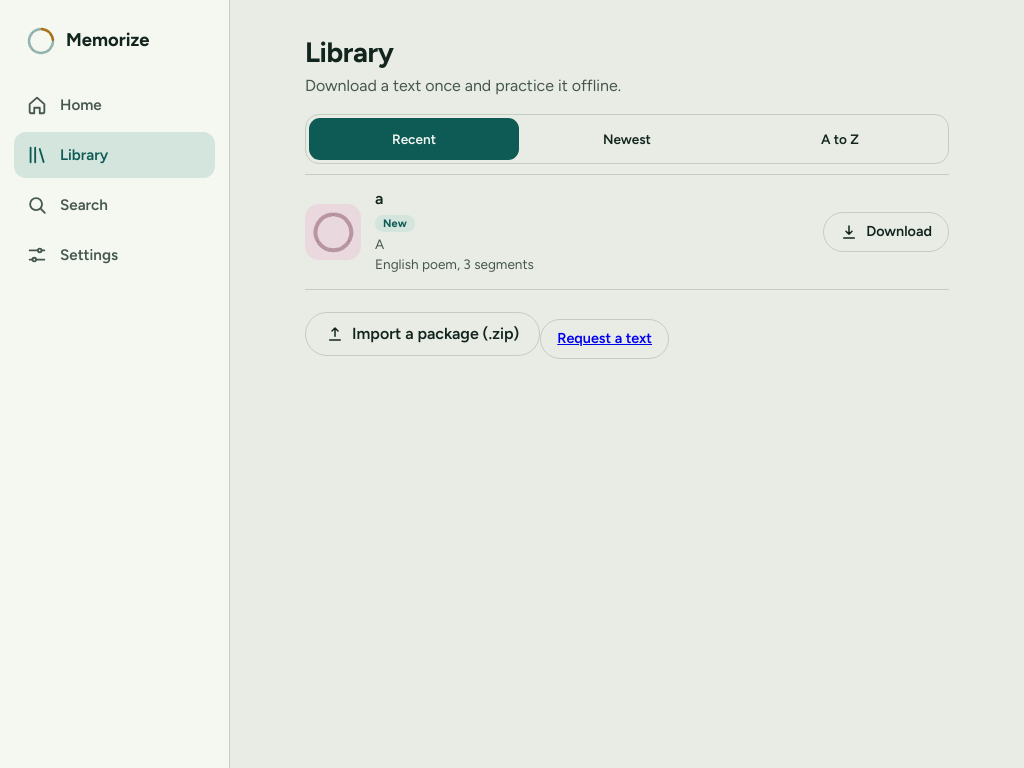
Test case: New label › never labels an installed text as New
The image size is (1024, 768).
Click the button "Download": x=886, y=232 [823, 212, 949, 252]
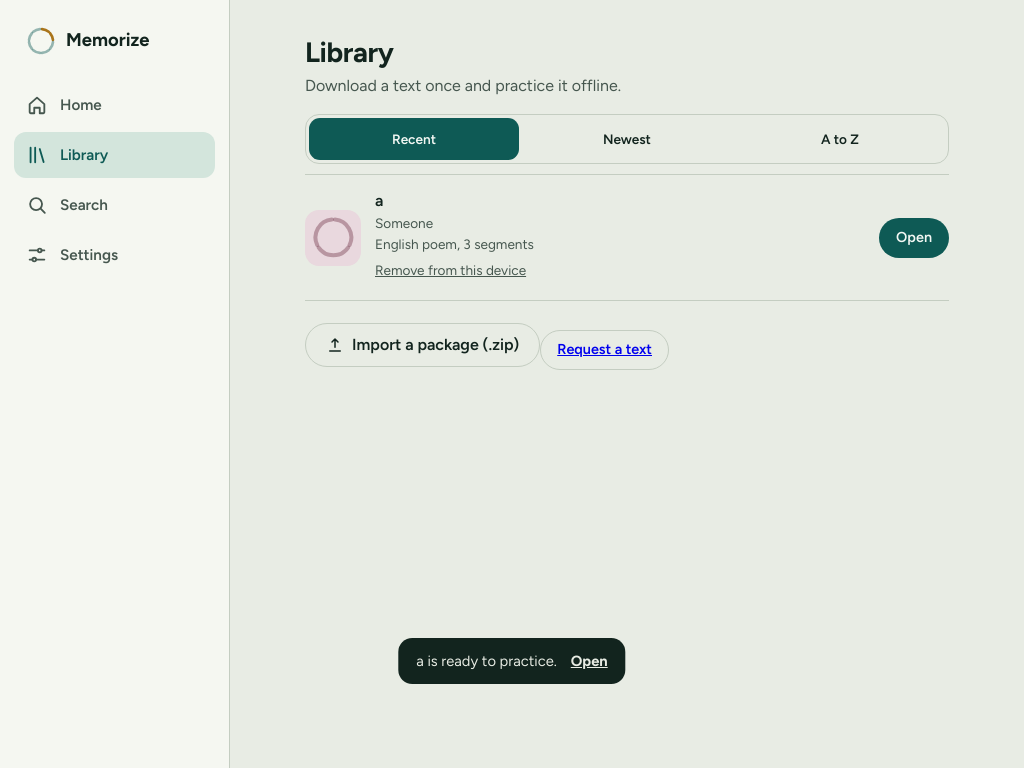
Now the button "Open" in the row of "English poem, 3 segments" is shown, box [879, 218, 949, 258]
